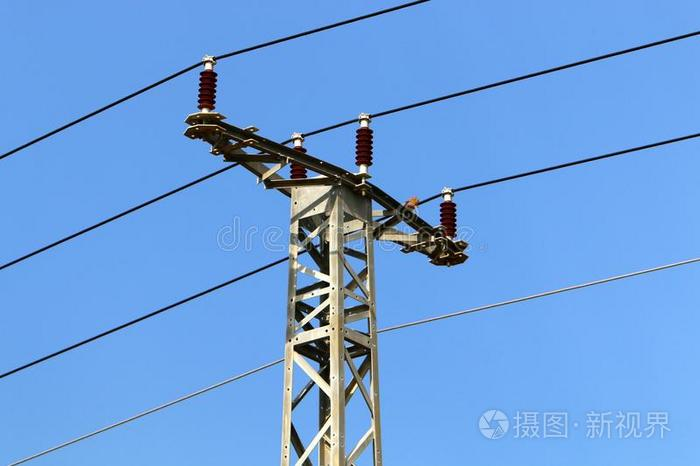insulator: (353, 126, 378, 167), (196, 69, 219, 112), (439, 199, 458, 236)
